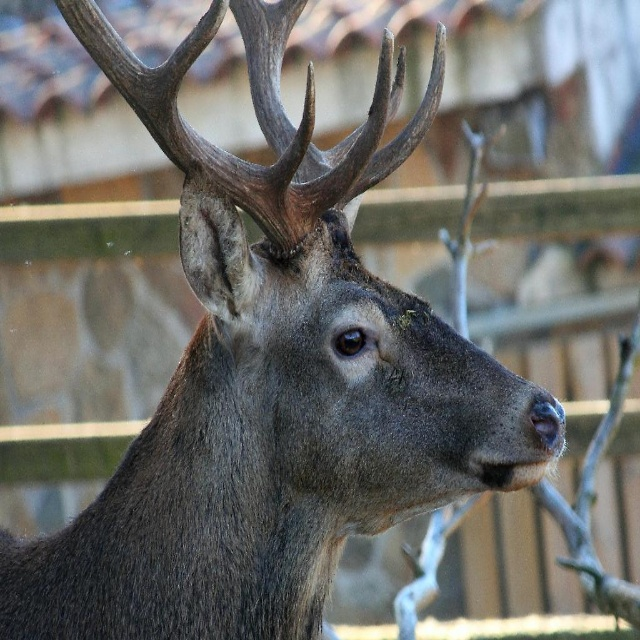Deer: (0, 0, 567, 640)
